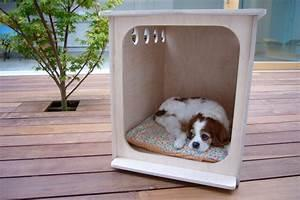dog: (152, 95, 231, 151)
